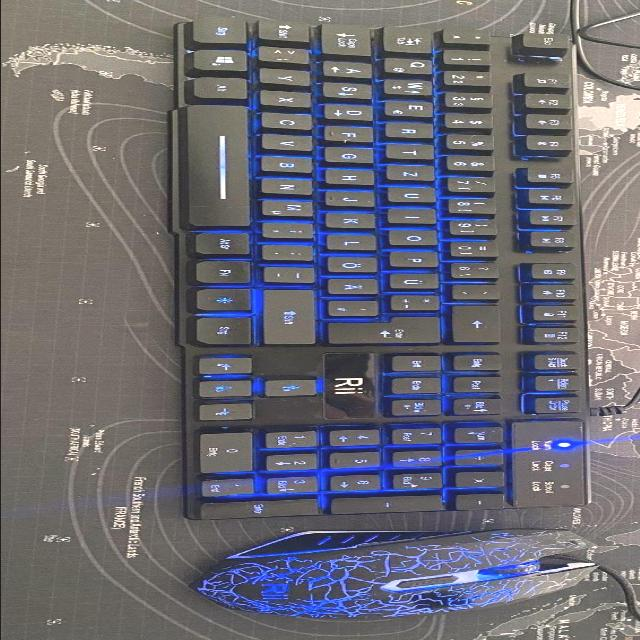0: (451, 239, 507, 256)
1: (446, 49, 498, 65)
2: (447, 69, 499, 85)
3: (445, 90, 501, 107)
4: (447, 112, 501, 128)
5: (447, 133, 503, 149)
6: (448, 155, 504, 171)
7: (448, 175, 504, 191)
8: (448, 196, 504, 213)
9: (450, 217, 506, 234)
a: (326, 59, 379, 77)
accent: (455, 283, 508, 299)
ae: (329, 277, 385, 294)
alt-left: (196, 76, 254, 98)
altgr-right: (198, 231, 256, 254)
b: (263, 154, 319, 172)
c: (264, 111, 318, 129)
caret: (446, 28, 494, 44)
comma: (265, 221, 321, 238)
d: (327, 103, 378, 120)
del: (454, 303, 508, 341)
e: (387, 98, 438, 116)
enter: (328, 315, 449, 343)
f: (327, 125, 379, 141)
g: (327, 146, 379, 162)
h: (328, 168, 381, 184)
hash: (331, 299, 385, 315)
i: (390, 207, 442, 223)
j: (328, 190, 382, 206)
k: (328, 211, 381, 227)
keyboard: (147, 11, 597, 529)
l: (329, 233, 383, 249)
less: (262, 45, 316, 63)
m: (264, 198, 320, 216)
minus: (266, 265, 322, 283)
n: (263, 176, 319, 194)
o: (391, 227, 443, 245)
oe: (329, 255, 383, 272)
p: (393, 250, 444, 266)
plus: (393, 293, 447, 309)
point: (265, 243, 321, 260)
q: (387, 55, 438, 73)
r: (388, 121, 438, 138)
s: (326, 81, 378, 98)
shift-left: (260, 18, 316, 41)
shift-lock: (324, 22, 376, 56)
shift-right: (265, 288, 321, 344)
space: (185, 102, 257, 226)
ss: (453, 261, 506, 277)
strg-left: (196, 15, 252, 43)
strg-right: (197, 315, 258, 345)
t: (388, 143, 439, 159)
tab: (386, 26, 437, 52)
u: (389, 185, 442, 201)
ue: (392, 272, 445, 288)
v: (263, 133, 319, 151)
w: (387, 78, 438, 95)
x: (264, 89, 317, 107)
y: (263, 66, 317, 84)
z: (389, 164, 440, 180)
